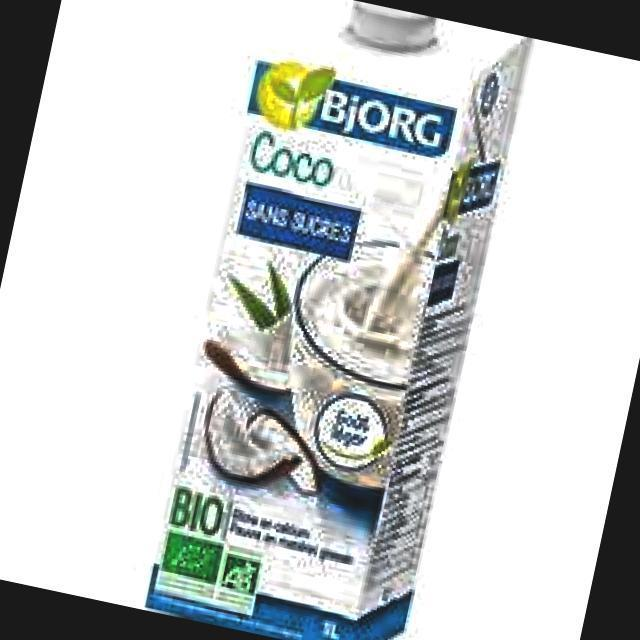cardboard: (125, 0, 535, 640)
